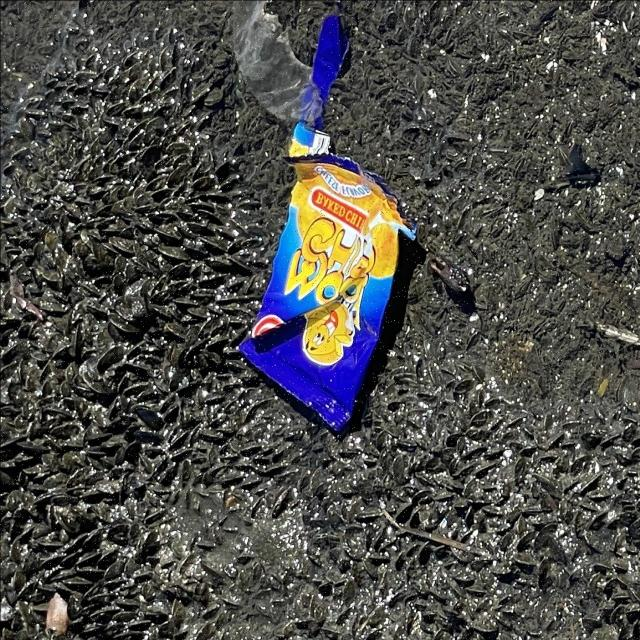plastic_waste: (236, 153, 420, 436)
